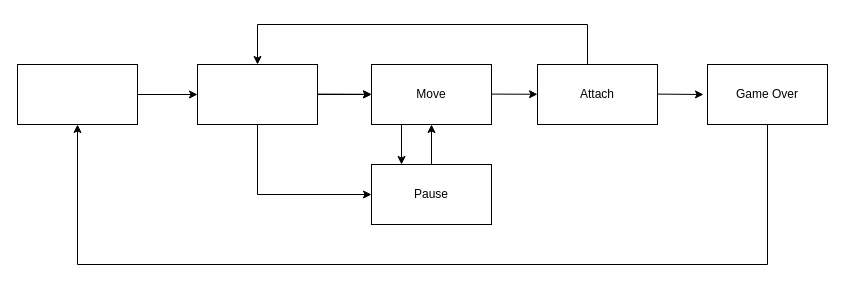
Some shapes in this 845 by 290 pixel diagram are drawn without their labels. Here are the shapes that lost their labels. From the top down, the centre of each, then its label:
the point at 77,94: Start
the point at 257,94: Spawn
